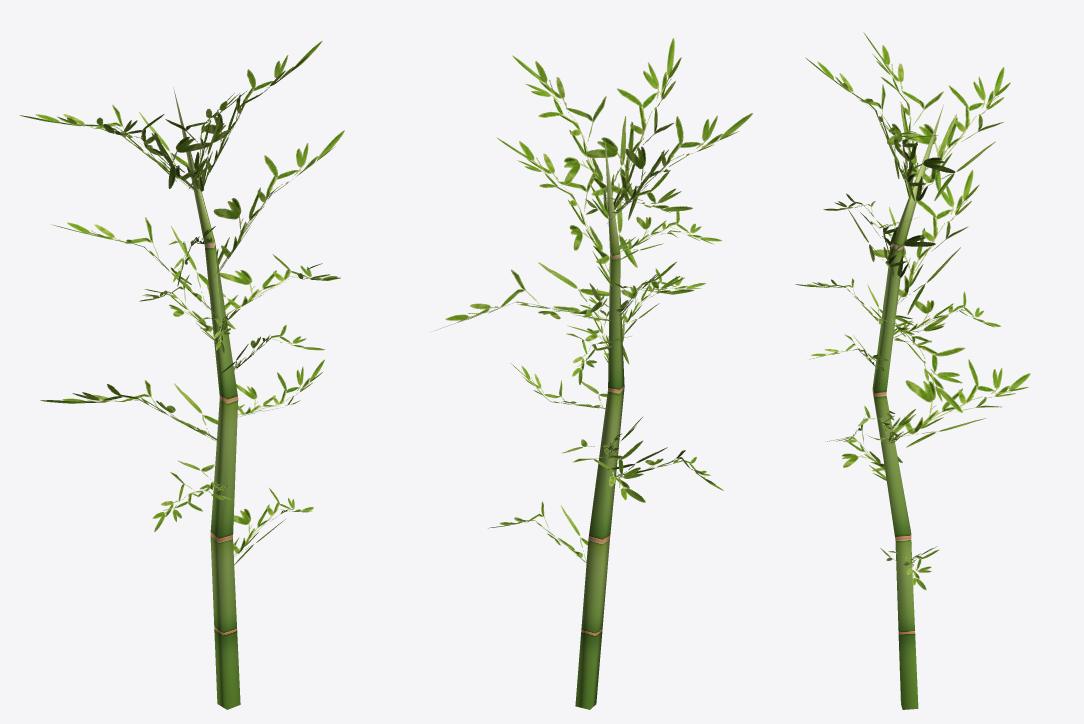
Rendered from bamboo.fbx.
The picture shows the model from 3 angles, left to right: view 1: azimuth 30°, elevation 25°; view 2: azimuth 150°, elevation 25°; view 3: azimuth 270°, elevation 25°; orthographic projection. The views are drawn at different scales.
Parts seen in each view (by area): view 1: bambooShoot; view 2: bambooShoot; view 3: bambooShoot.
Part boxes in pixels (x1,y1,x2,y2): bambooShoot: (19, 41, 344, 709); bambooShoot: (435, 38, 752, 709); bambooShoot: (795, 32, 1030, 709).
Size of the model in its own units: 2.9 by 5.67 by 2.22.
